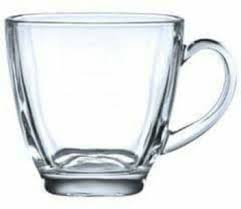cup: (2, 7, 241, 203)
